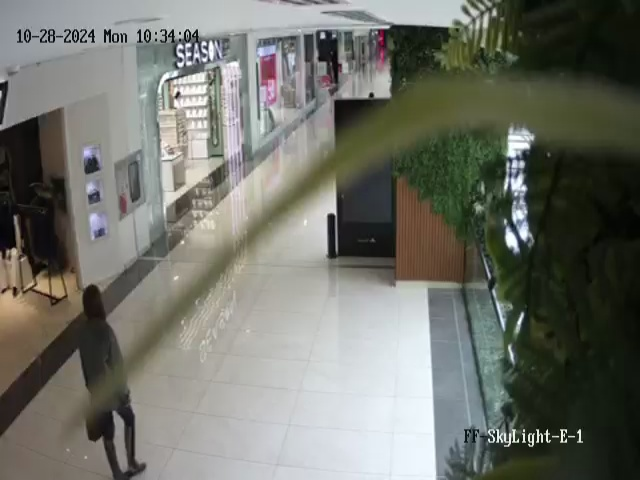female: (77, 284, 147, 480)
